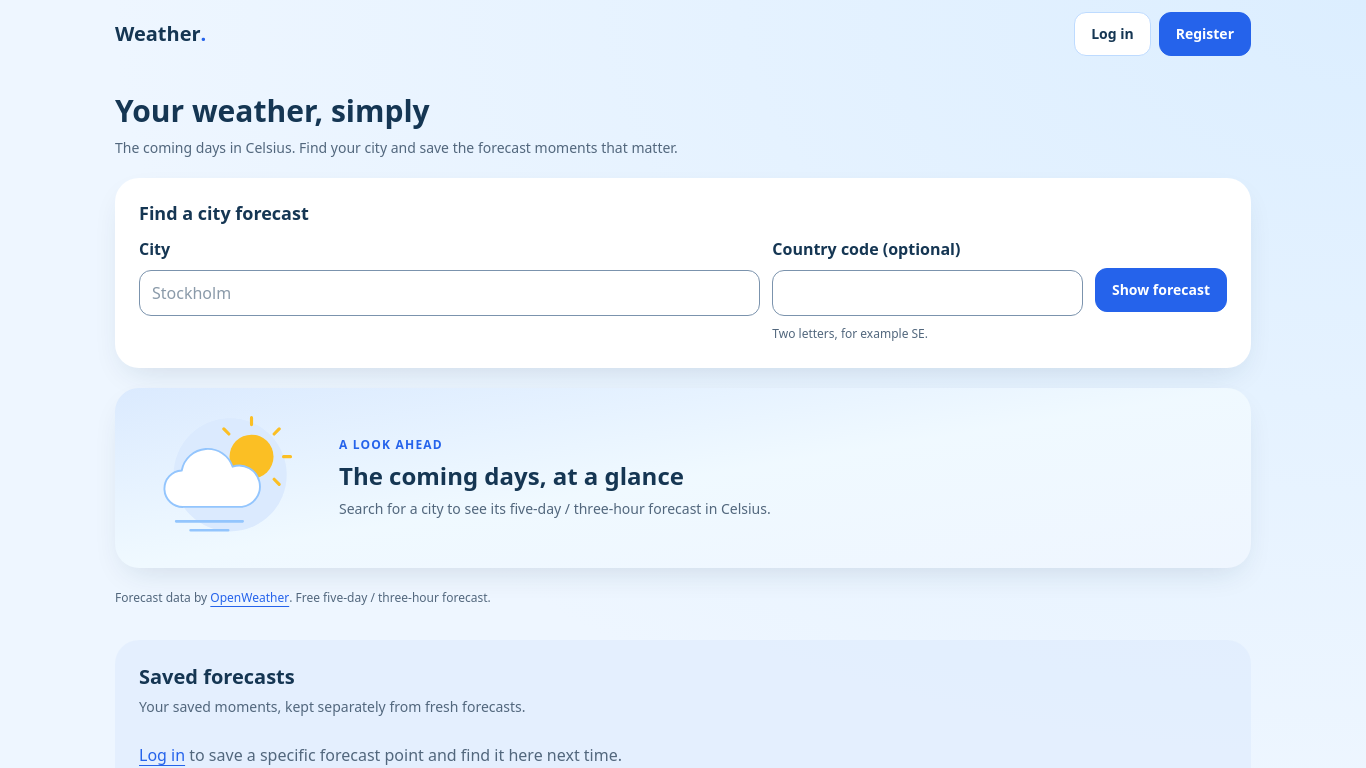
Test: weather and authentication journeys › explains no match without exposing diagnostic references
Type "Nowhere" into the field labelled "City" at (450, 293), box x1=139 y1=270 x2=760 y2=316
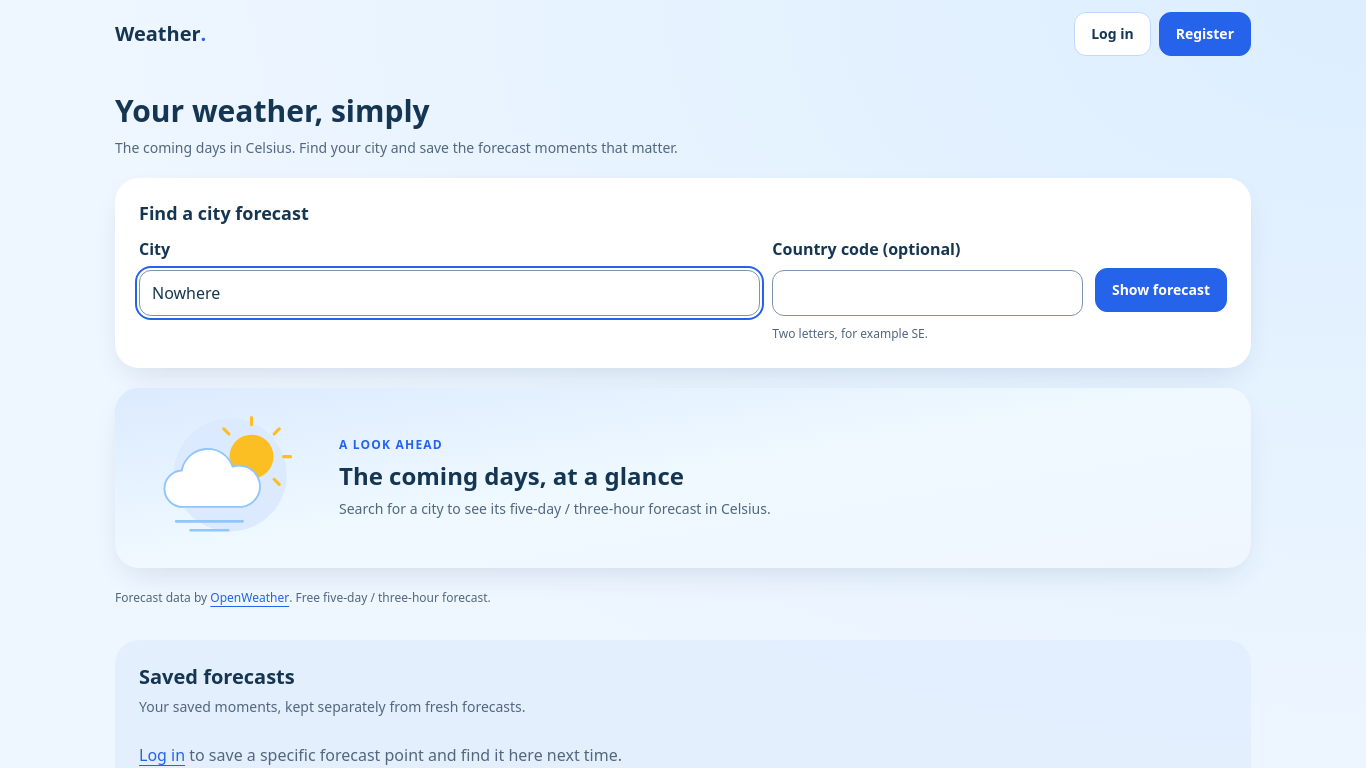
Click the button "Show forecast" at (1161, 290), box x1=1095 y1=268 x2=1227 y2=312
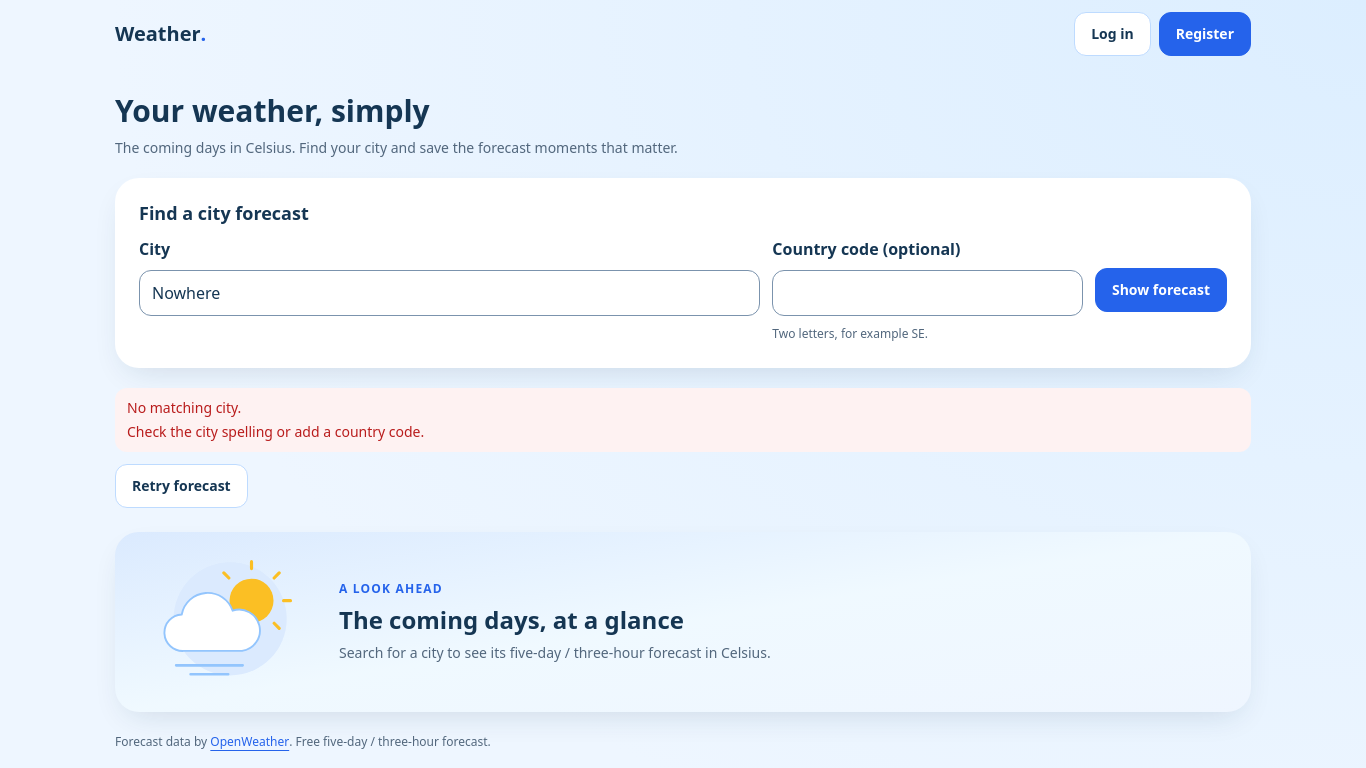
Check: the text "Check the city spelling or add a country code." is shown, box x1=127 y1=422 x2=424 y2=441
